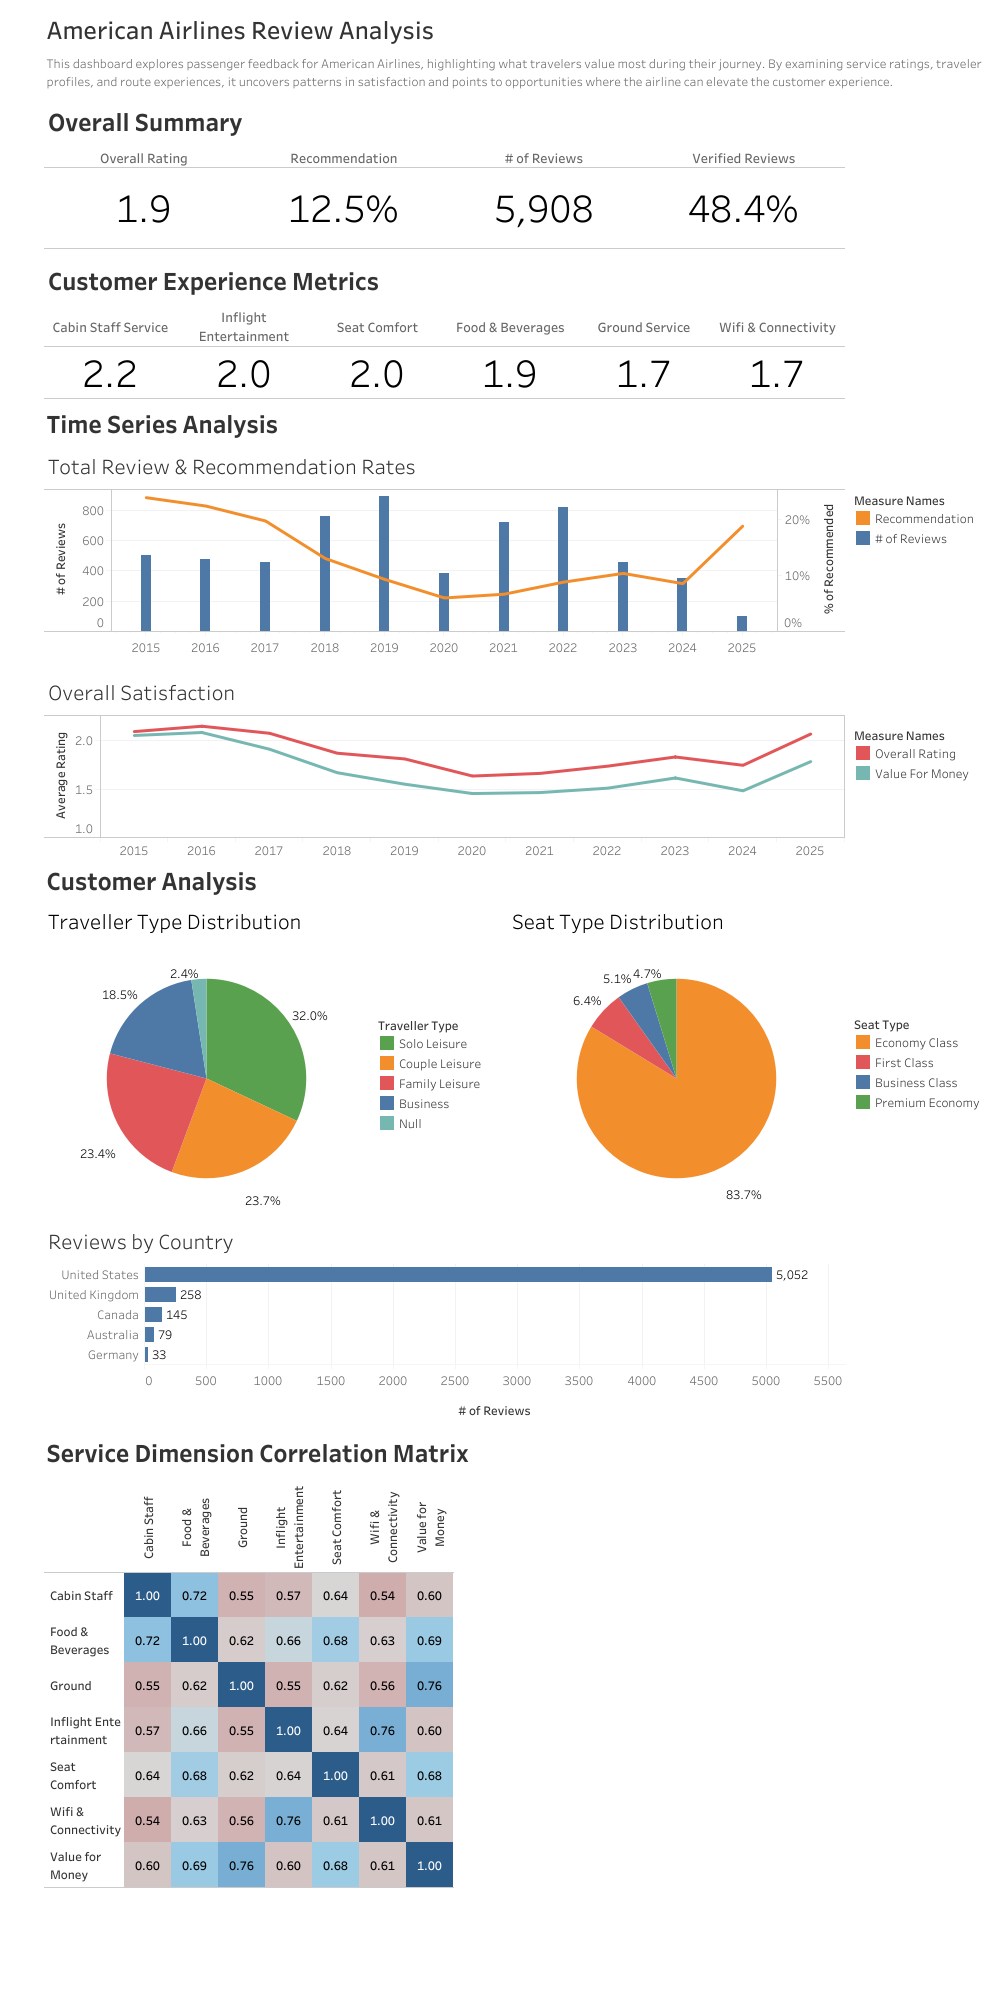

Layout of this report page (visuals, bound fields, positions):
{"tool":"tableau","page":{"name":"Dashboard 1","canvas":[1000,1000],"units":"permille","ordinal":0},"visuals":[{"type":"blank","box":[6.2,4,32.1,992]},{"type":"title","box":[38.2,4,955.6,20.5]},{"type":"text","box":[38.2,24.5,955.6,21]},{"type":"worksheet","title":"DataSum","mark":"Automatic","box":[38.2,45.5,812,79]},{"type":"blank","box":[850.3,45.5,143.6,196]},{"type":"worksheet","title":"SatisfactionMetrics","mark":"Automatic","box":[38.2,124.5,812,74.5]},{"type":"text","box":[38.2,199,812,19.5]},{"type":"worksheet","title":"#Review%Recommended","mark":"Bar","rows":["review_id","Calculation_537335784213790720"],"cols":["submitted_date"],"box":[38.2,218.5,812,112]},{"type":"legend","title":"#Review%Recommended","param":"[federated.0s96i351wny2ng14ti2cp0nn4qun].[:Measure Names]","box":[850.3,241.5,143.6,111.5]},{"type":"worksheet","title":"OverallSatisfaction","mark":"Automatic","rows":["average_rating","value_for_money"],"cols":["submitted_date"],"box":[38.2,332.3,812,97.7]},{"type":"legend","title":"OverallSatisfaction","param":"[federated.0s96i351wny2ng14ti2cp0nn4qun].[:Measure Names]","box":[850.3,359,143.6,33]},{"type":"text","box":[38.2,430,812,17.8]},{"type":"worksheet","title":"TravellerType","mark":"Pie","box":[38.2,447.8,334.2,160]},{"type":"blank","box":[372.5,447.8,131.4,56.2]},{"type":"worksheet","title":"SeatType","mark":"Pie","box":[503.9,447.8,346.4,160]},{"type":"blank","box":[850.3,447.8,143.6,55.7]},{"type":"legend","title":"SeatType","param":"[federated.0s96i351wny2ng14ti2cp0nn4qun].[none:seat_type:nk]","box":[850.3,503.5,143.6,104.3]},{"type":"legend","title":"TravellerType","param":"[federated.0s96i351wny2ng14ti2cp0nn4qun].[none:type_of_traveller:nk]","box":[372.5,504,131.4,103.8]},{"type":"worksheet","title":"CountryReview","mark":"Automatic","rows":["nationality"],"cols":["review_id"],"box":[38.2,607.8,812,103.2]},{"type":"blank","box":[850.3,607.8,143.6,103.2]},{"type":"text","box":[38.2,711,812,28.5]},{"type":"blank","box":[850.3,711,143.6,28.5]},{"type":"text","box":[38.2,739.5,399.4,20]},{"type":"text","box":[437.7,739.5,556.2,20]},{"type":"worksheet","title":"eco heat","mark":"Automatic","rows":["metric_y"],"cols":["metric_x"],"box":[38.2,759.5,399.4,236.5]},{"type":"worksheet","title":"eco heat (2)","mark":"Automatic","rows":["metric_y"],"cols":["metric_x"],"box":[437.7,759.5,412.6,236.5]},{"type":"legend","title":"eco heat (2)","param":"[federated.06ufy520tb83cb19agsgc08zw278].[sum:correlation:qk]","box":[850.3,759.5,143.6,118.2]},{"type":"blank","box":[850.3,877.8,143.6,118.2]}]}

Visuals, with their boxes on the dashboard's canvas, which has no fixed pixel size, in thousandths of its width and height (x1, y1, x2, y2). These are canvas units, not pixel positions in the 999x1999 screenshot, which may show the page scaled, cropped or inside an application window:
blank: crop(6, 4, 38, 996)
title: crop(38, 4, 994, 24)
text: crop(38, 24, 994, 46)
"DataSum" worksheet: crop(38, 46, 850, 124)
blank: crop(850, 46, 994, 242)
"SatisfactionMetrics" worksheet: crop(38, 124, 850, 199)
text: crop(38, 199, 850, 218)
"#Review%Recommended" worksheet (Bar marks): crop(38, 218, 850, 330)
"#Review%Recommended" legend: crop(850, 242, 994, 353)
"OverallSatisfaction" worksheet: crop(38, 332, 850, 430)
"OverallSatisfaction" legend: crop(850, 359, 994, 392)
text: crop(38, 430, 850, 448)
"TravellerType" worksheet (Pie marks): crop(38, 448, 372, 608)
blank: crop(372, 448, 504, 504)
"SeatType" worksheet (Pie marks): crop(504, 448, 850, 608)
blank: crop(850, 448, 994, 504)
"SeatType" legend: crop(850, 504, 994, 608)
"TravellerType" legend: crop(372, 504, 504, 608)
"CountryReview" worksheet: crop(38, 608, 850, 711)
blank: crop(850, 608, 994, 711)
text: crop(38, 711, 850, 740)
blank: crop(850, 711, 994, 740)
text: crop(38, 740, 438, 760)
text: crop(438, 740, 994, 760)
"eco heat" worksheet: crop(38, 760, 438, 996)
"eco heat (2)" worksheet: crop(438, 760, 850, 996)
"eco heat (2)" legend: crop(850, 760, 994, 878)
blank: crop(850, 878, 994, 996)
